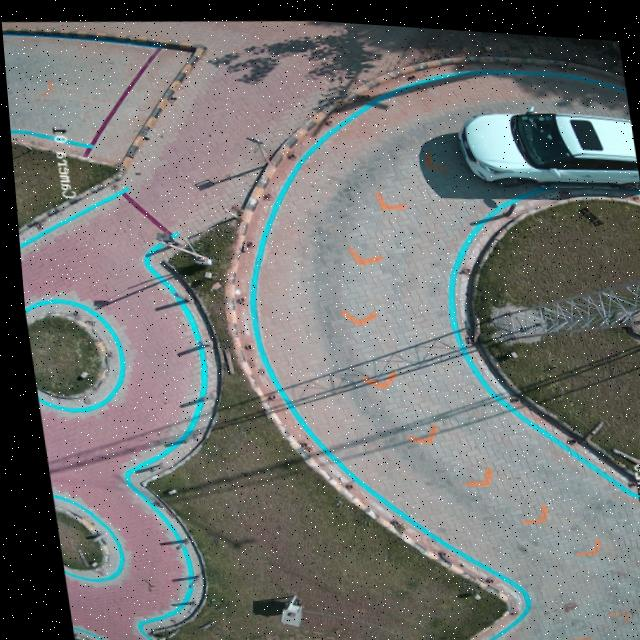car: (455, 99, 638, 181)
